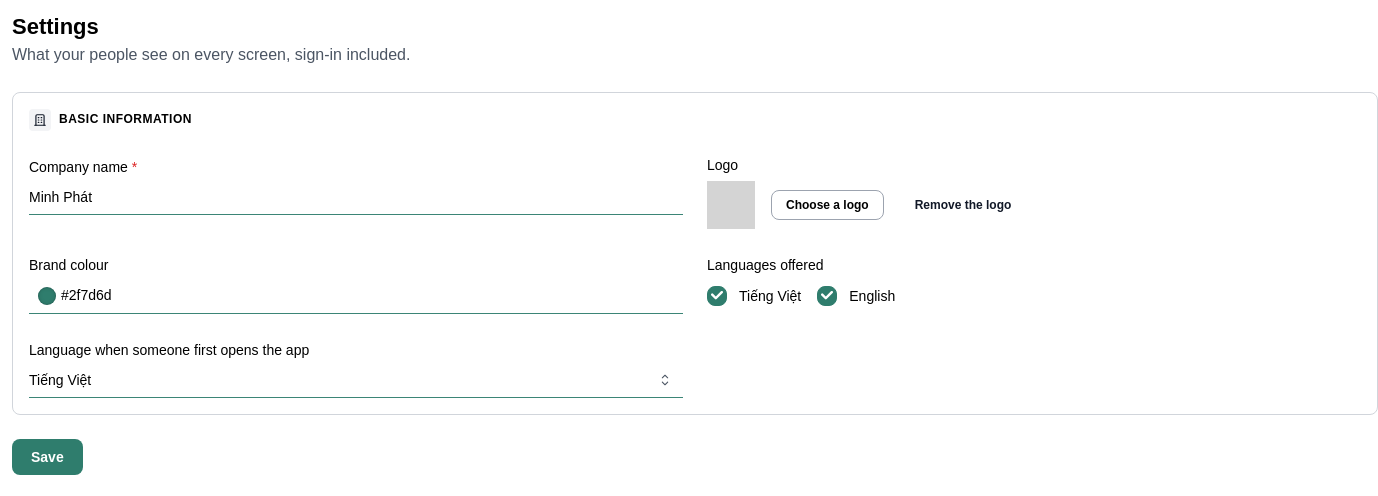
it: Settings › moves the default to a language still offered, and refuses none
The width and height of the screenshot is (1378, 496).
Click the checkbox labelled "Tiếng Việt".
click(717, 296)  # box [707,286,727,306]
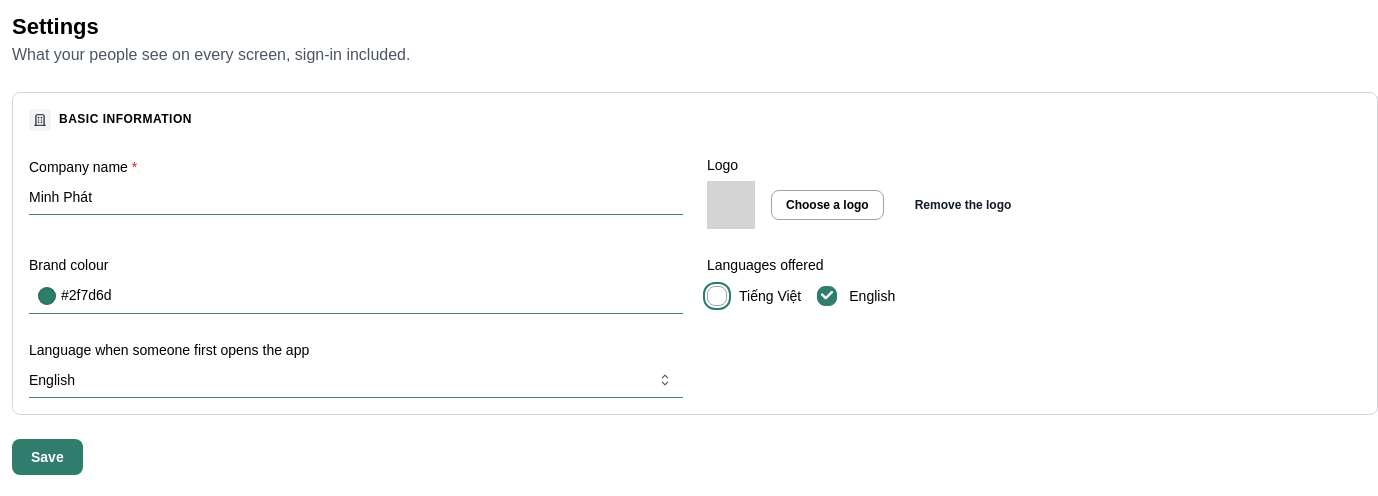
Expected: the dropdown labelled "Language when someone first opens the app" shows "English", [29,362,683,398]
Click the button "Save".
click(47, 458)  # box [12,440,83,476]
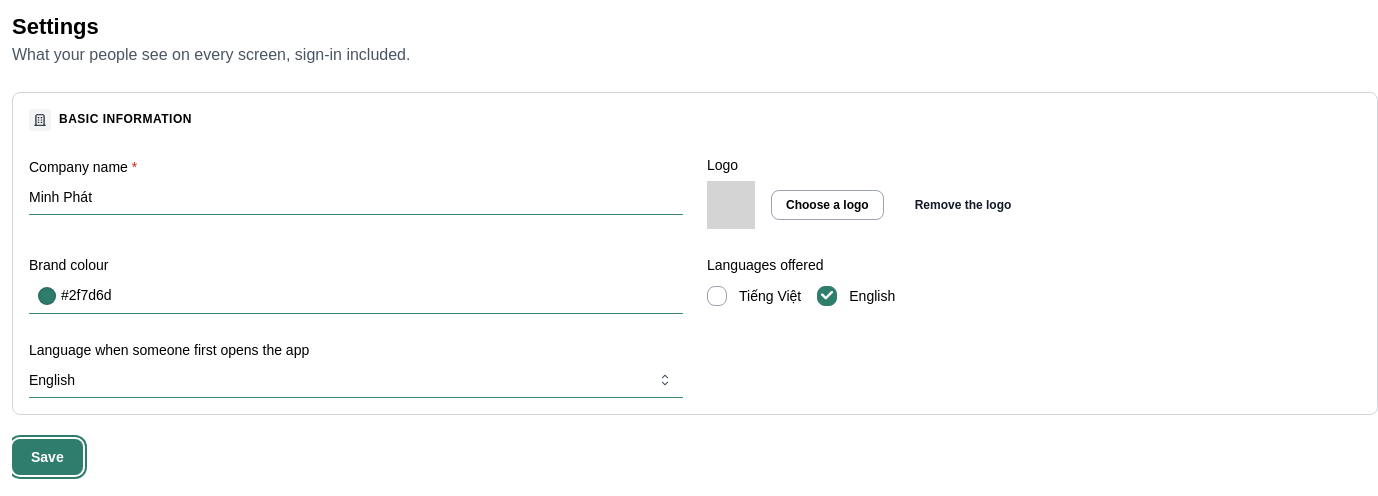
Click the checkbox labelled "English".
click(827, 296)  # box [817,286,837,306]
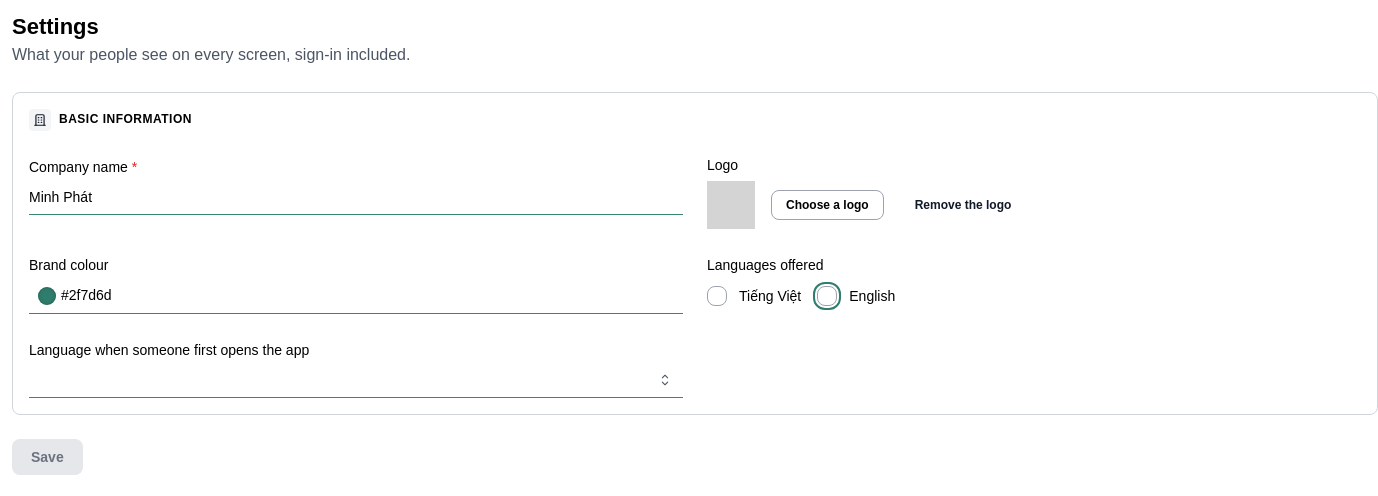
Expected: the button "Save" is disabled, [12,440,83,476]
